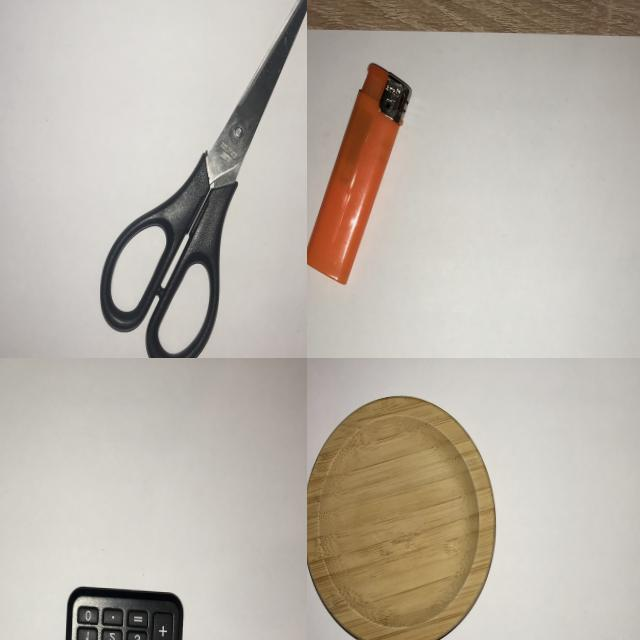calculator: (48, 578, 188, 640)
cup_holder: (307, 384, 503, 640)
lighter: (307, 54, 416, 292)
scissors: (91, 0, 307, 358)
